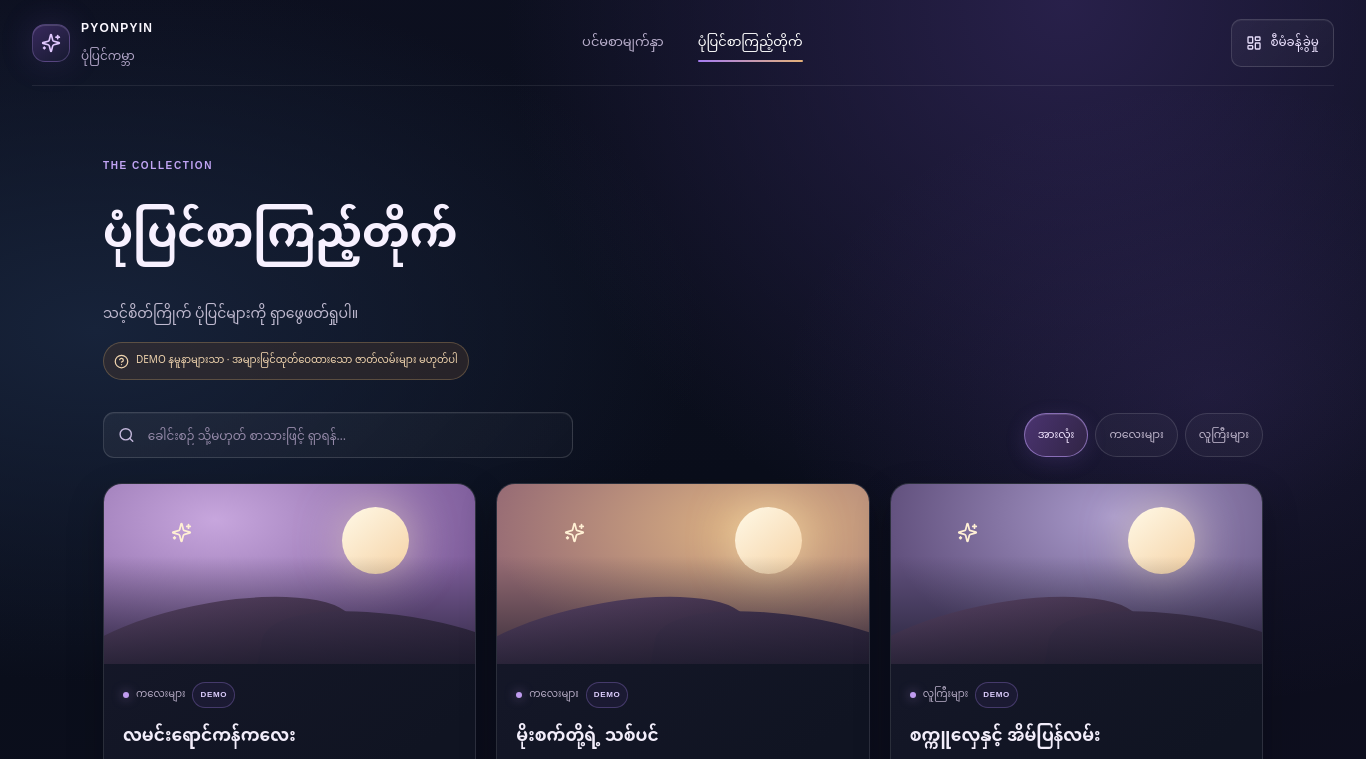
PyonPyin frontend › updates the public category filter without displaying unknown categories
What coordinates should you click on to do the following:
click the button "ကလေးများ"
I would click on:
 (1137, 435)
Its box is [1095,413,1178,457].
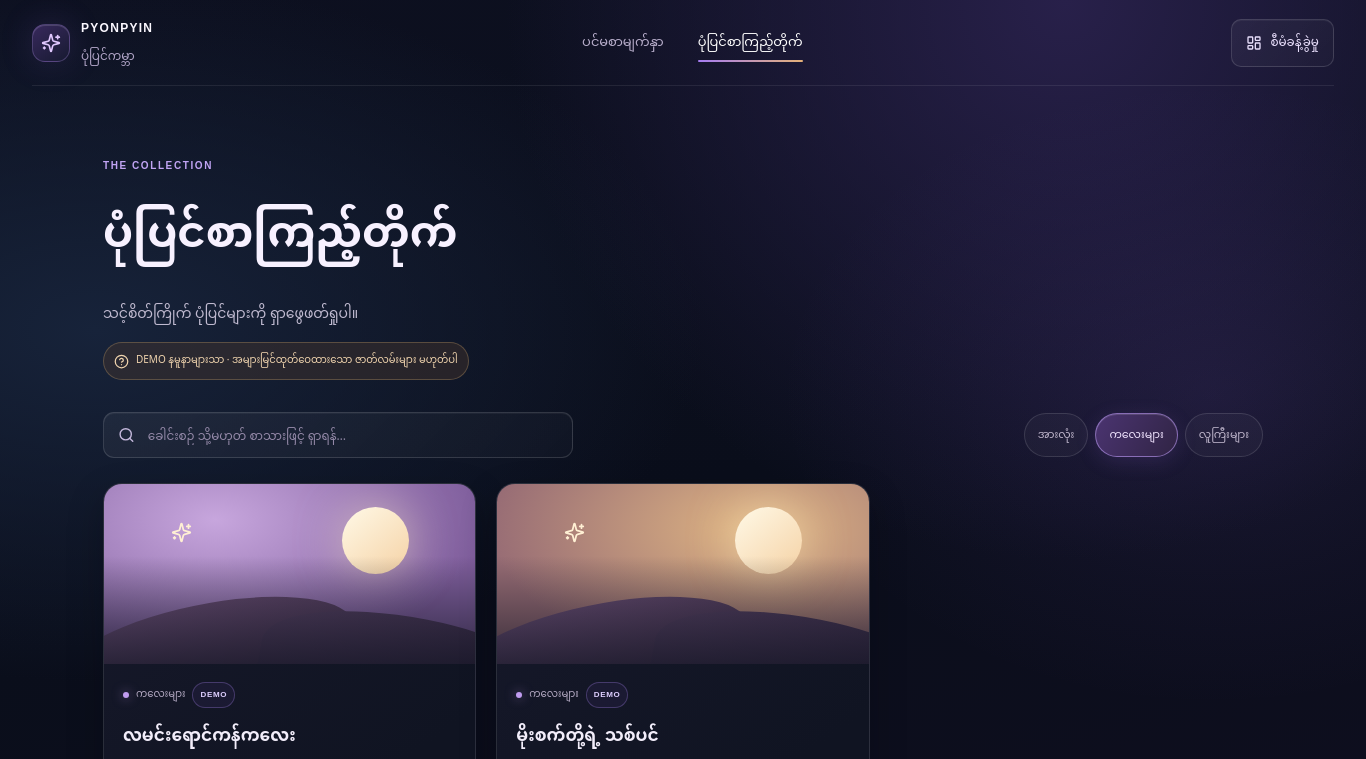
Expected: the heading "စက္ကူလှေနှင့် အိမ်ပြန်လမ်း" is gone
